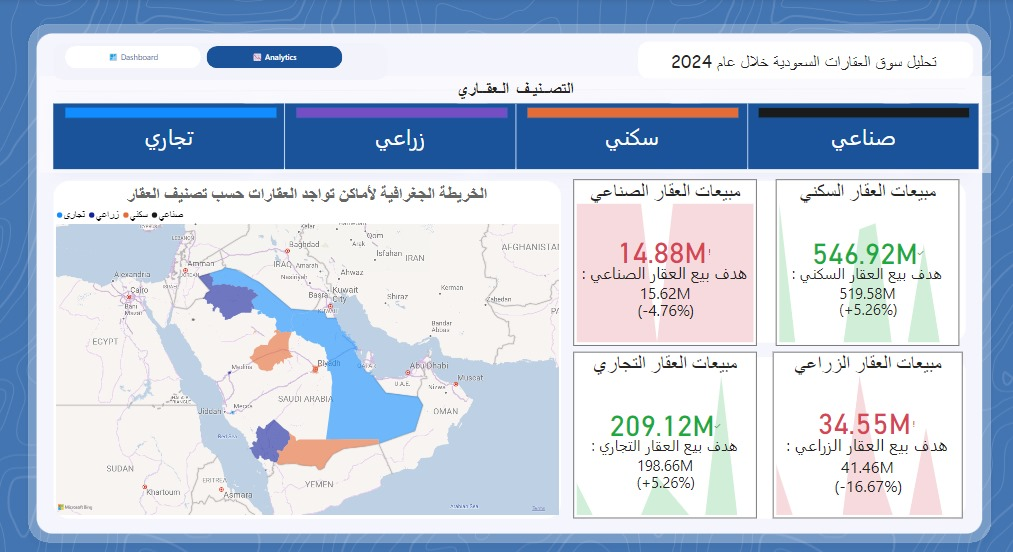

The dashboard page shown, as its layout file describes it:
{"tool":"powerbi","page":{"name":"📉 Analytics","canvas":[1920,1080],"ordinal":1},"visuals":[{"type":"textbox","box":[60.5,1036.7,234.9,38],"z":1000},{"type":"kpi","title":"مبيعات العقار السكني ","fields":{"Indicator":["Sum(مبيعات العقار السكني لسنة 2024.Average Residential Sales)"],"TrendLine":["مبيعات العقار السكني لسنة 2024.الشهر"],"Goal":["Sum(مبيعات العقار السكني لسنة 2024.Residential Sales Target Lower)"]},"box":[1468,342,346,314],"z":2000},{"type":"kpi","title":"مبيعات العقار التجاري ","fields":{"Indicator":["Sum(مبيعات العقار التجاري لسنة 2024.Average Commercial Sales)"],"Goal":["Sum(مبيعات العقار التجاري لسنة 2024.Commercial Sales Target Lower)"],"TrendLine":["مبيعات العقار التجاري لسنة 2024.الشهر"]},"box":[1086,668,346,314],"z":3000},{"type":"kpi","title":"مبيعات العقار الصناعي ","fields":{"Indicator":["Sum(مبيعات العقار الصناعي لسنة 2024.Average Industrial Sales)"],"TrendLine":["مبيعات العقار الصناعي لسنة 2024.الشهر"],"Goal":["Sum(مبيعات العقار الصناعي لسنة 2024.Industrial Sales Target Upper)"]},"box":[1086,342,346,314],"z":4000},{"type":"filledMap","title":"الخريطة الجغرافية لأماكن تواجد العقارات حسب تصنيف العقار","fields":{"Category":["data.Column1"],"Series":["data.Column2"]},"box":[102,352,960,630],"z":5000},{"type":"slicer","title":"التصــنيـف الـعقــاري","fields":{"Values":["data.Column2"]},"box":[76.2,146.1,1799,183.2],"z":6000},{"type":"kpi","title":"مبيعات العقار الزراعي ","fields":{"Indicator":["Sum(مبيعات العقار الزراعي لسنة 2024.Average Agricultural Sales)"],"Goal":["Sum(مبيعات العقار الزراعي لسنة 2024.Sum of Agricultural Sales Target Upper)"],"TrendLine":["مبيعات العقار الزراعي لسنة 2024.الشهر"]},"box":[1462,668,358,314],"z":7000},{"type":"shape","box":[102,84,632,70],"z":8000},{"type":"pageNavigator","box":[124,90,524,42],"z":9000},{"type":"shape","box":[1208,82,634,70],"z":10000},{"type":"textbox","box":[1264,92,522,56],"z":11000},{"type":"textbox","box":[163.3,216.7,293.3,93.3],"z":11001},{"type":"textbox","box":[583.3,1056.7,233.3,23.3],"z":11003},{"type":"shape","box":[123.3,206.7,400,20],"z":11006},{"type":"shape","box":[560,206.7,400,20],"z":11007},{"type":"shape","box":[1435,207.5,400,20],"z":11008},{"type":"shape","box":[997.5,207.5,400,20],"z":11009}]}

Visuals, with their boxes on the page's 1920x1080 design canvas (x1, y1, x2, y2). These are canvas units, not pixel positions in the 1013x552 screenshot, which may show the page scaled, cropped or inside an application window:
textbox: (x1=60, y1=1037, x2=295, y2=1075)
"مبيعات العقار السكني " kpi: (x1=1468, y1=342, x2=1814, y2=656)
"مبيعات العقار التجاري " kpi: (x1=1086, y1=668, x2=1432, y2=982)
"مبيعات العقار الصناعي " kpi: (x1=1086, y1=342, x2=1432, y2=656)
"الخريطة الجغرافية لأماكن تواجد العقارات حسب تصنيف العقار" filledMap: (x1=102, y1=352, x2=1062, y2=982)
"التصــنيـف الـعقــاري" slicer: (x1=76, y1=146, x2=1875, y2=329)
"مبيعات العقار الزراعي " kpi: (x1=1462, y1=668, x2=1820, y2=982)
shape: (x1=102, y1=84, x2=734, y2=154)
pageNavigator: (x1=124, y1=90, x2=648, y2=132)
shape: (x1=1208, y1=82, x2=1842, y2=152)
textbox: (x1=1264, y1=92, x2=1786, y2=148)
textbox: (x1=163, y1=217, x2=457, y2=310)
textbox: (x1=583, y1=1057, x2=817, y2=1080)
shape: (x1=123, y1=207, x2=523, y2=227)
shape: (x1=560, y1=207, x2=960, y2=227)
shape: (x1=1435, y1=208, x2=1835, y2=228)
shape: (x1=998, y1=208, x2=1398, y2=228)
